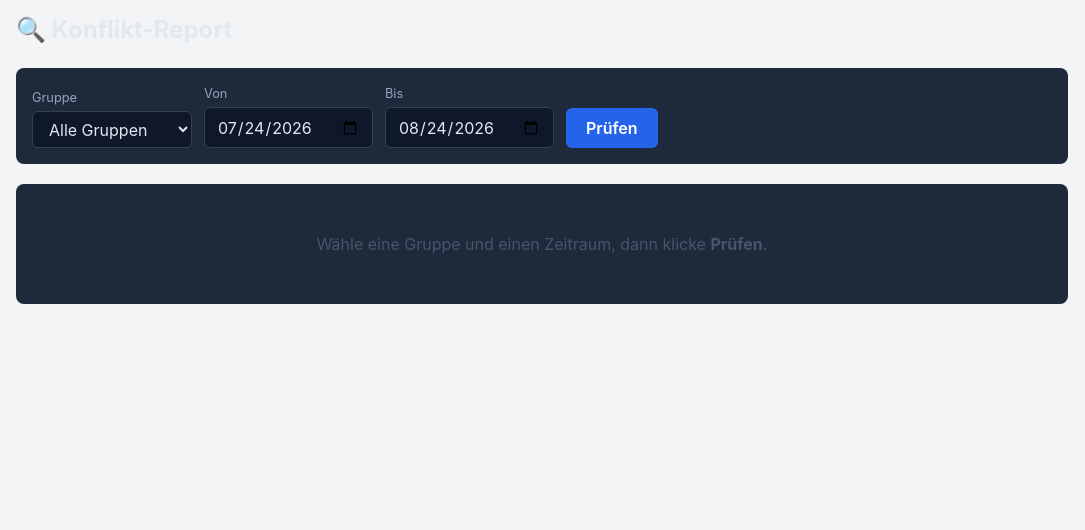
Test: ConflictReport › filters conflicts by type (overlap) when filter button is clicked
Click the button with test id "pruefen-btn" at (612, 128), box [566,108,658,148]
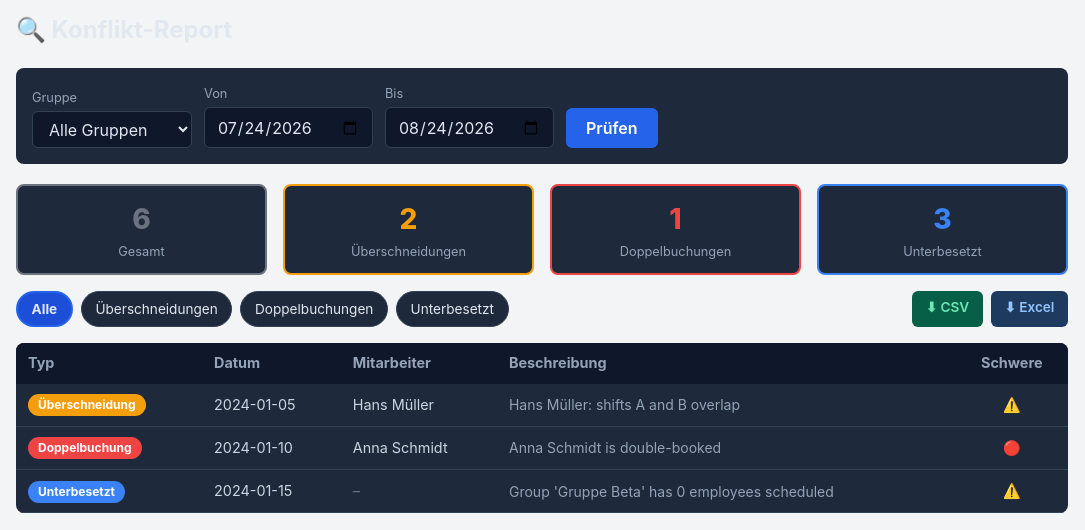
// Click overlap filter — should show only 1 overlap row
Click the button with test id "filter-btn-overlap" at (157, 309), box [81,291,232,327]
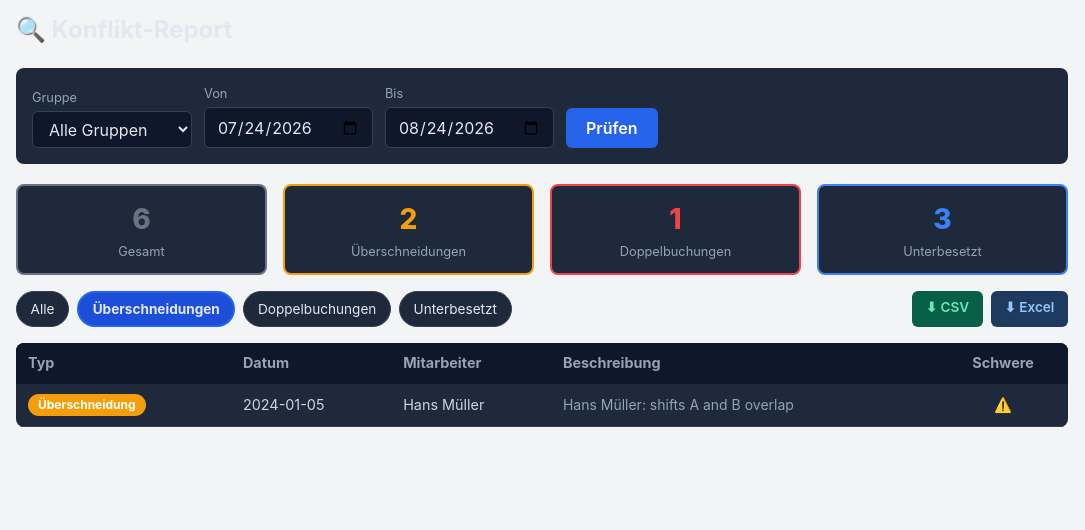
Result: the number of rows with test id "conflict-row" is 1 at [16,384,1068,426]
